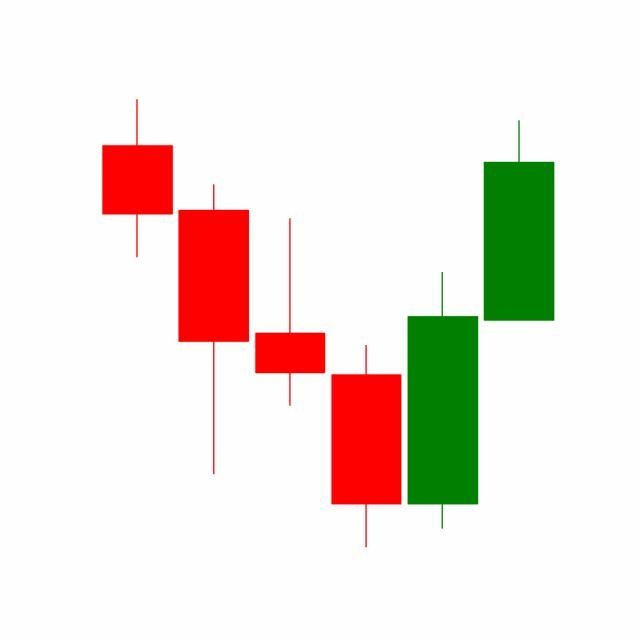Hikkake Pattern: (175, 116, 555, 549)
